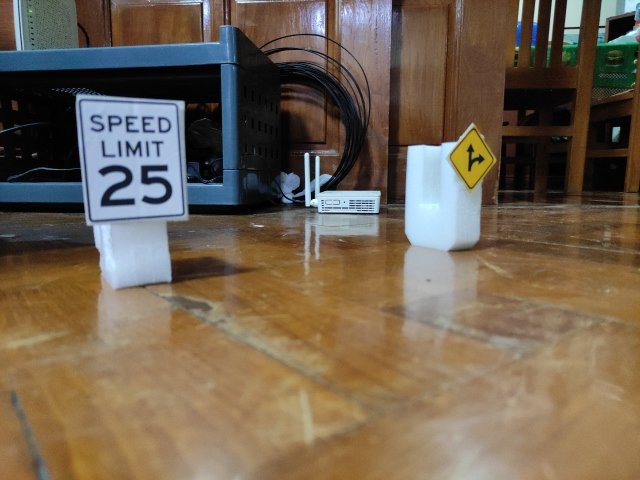Speed Limit 25: (77, 94, 190, 225)
Straight Or Right Sign: (447, 127, 496, 190)
